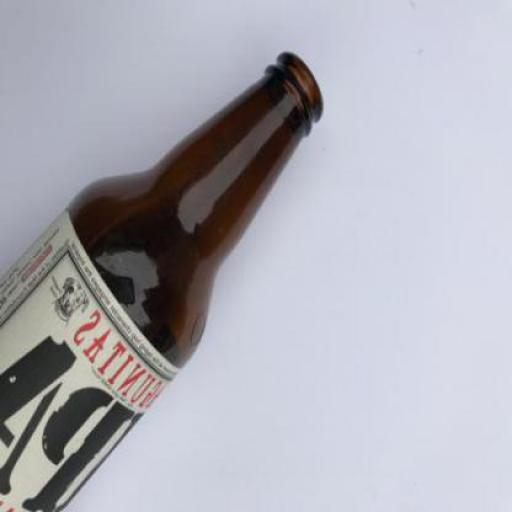glass: (1, 50, 326, 511)
